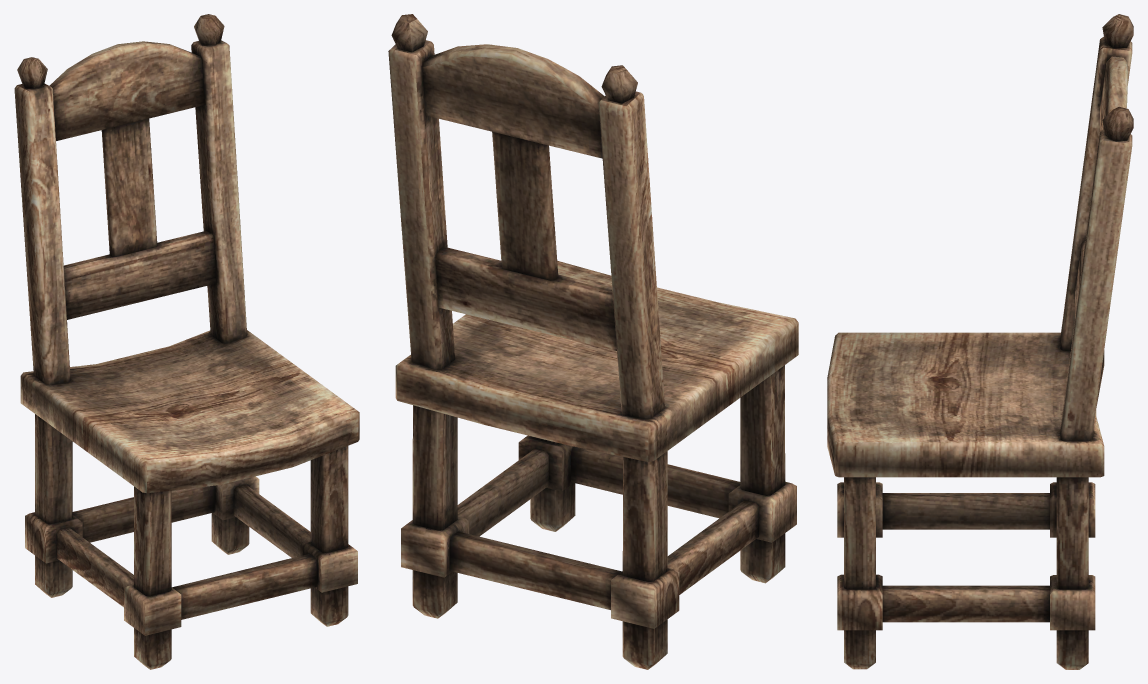
Rendered from chair_wood02.dae.
3 renders of one model, left to right at view 1: azimuth 30°, elevation 25°; view 2: azimuth 150°, elevation 25°; view 3: azimuth 270°, elevation 25°, orthographic. The views are drawn at different scales.
Visible parts, largest first — view 1: chair_wood02; view 2: chair_wood02; view 3: chair_wood02.
Boxes of the visible parts, bbox=[...] form: chair_wood02: bbox=[14, 14, 359, 669]; chair_wood02: bbox=[388, 14, 798, 669]; chair_wood02: bbox=[827, 14, 1133, 669].
Size of the model in its own units: 0.6263 by 1.43 by 0.7132.
